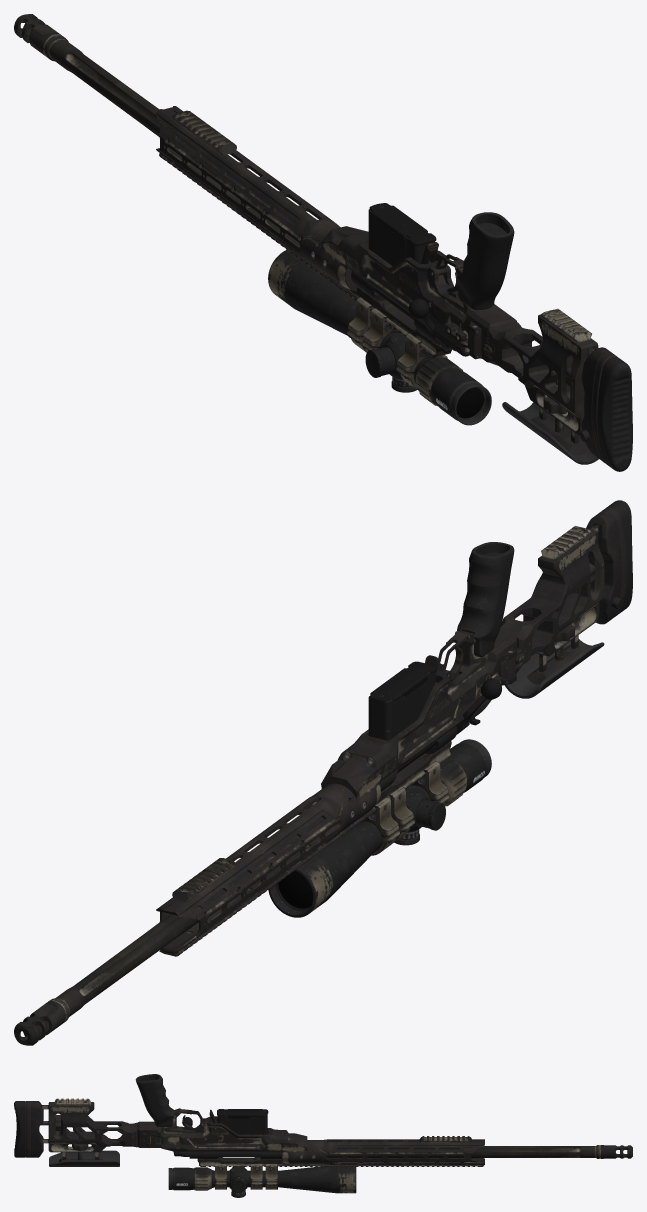
The model's file is sniper.glb.
3 renders of one model, top to bottom at view 1: azimuth 30°, elevation 25°; view 2: azimuth 150°, elevation 25°; view 3: azimuth 270°, elevation 25°, orthographic. The views are drawn at different scales.
Visible parts, largest first — view 1: Object_46; view 2: Object_46; view 3: Object_46.
Part boxes in pixels (x1,y1,x2,y2): Object_46: [14, 14, 632, 471]; Object_46: [14, 500, 632, 1045]; Object_46: [14, 1074, 632, 1197].
Bounding box in the file's own units: 0.0844 × 0.2461 × 1.17.
11 materials, 11 textured.
